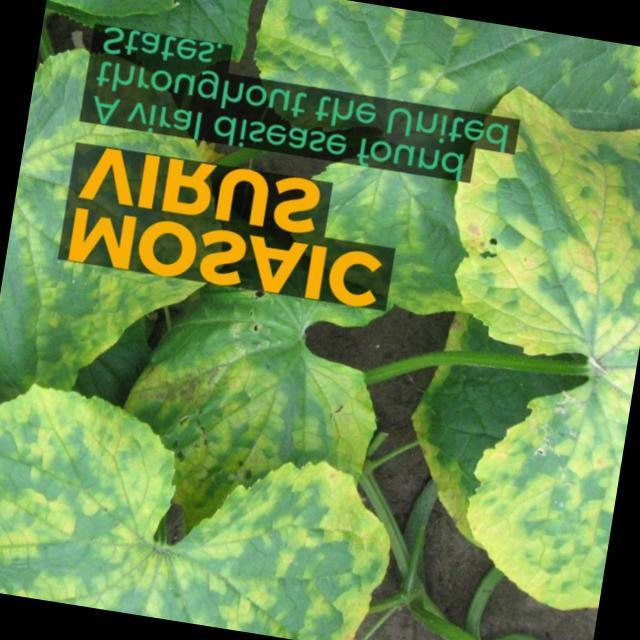Mosaic Virus: (405, 80, 640, 595), (0, 385, 401, 640)
